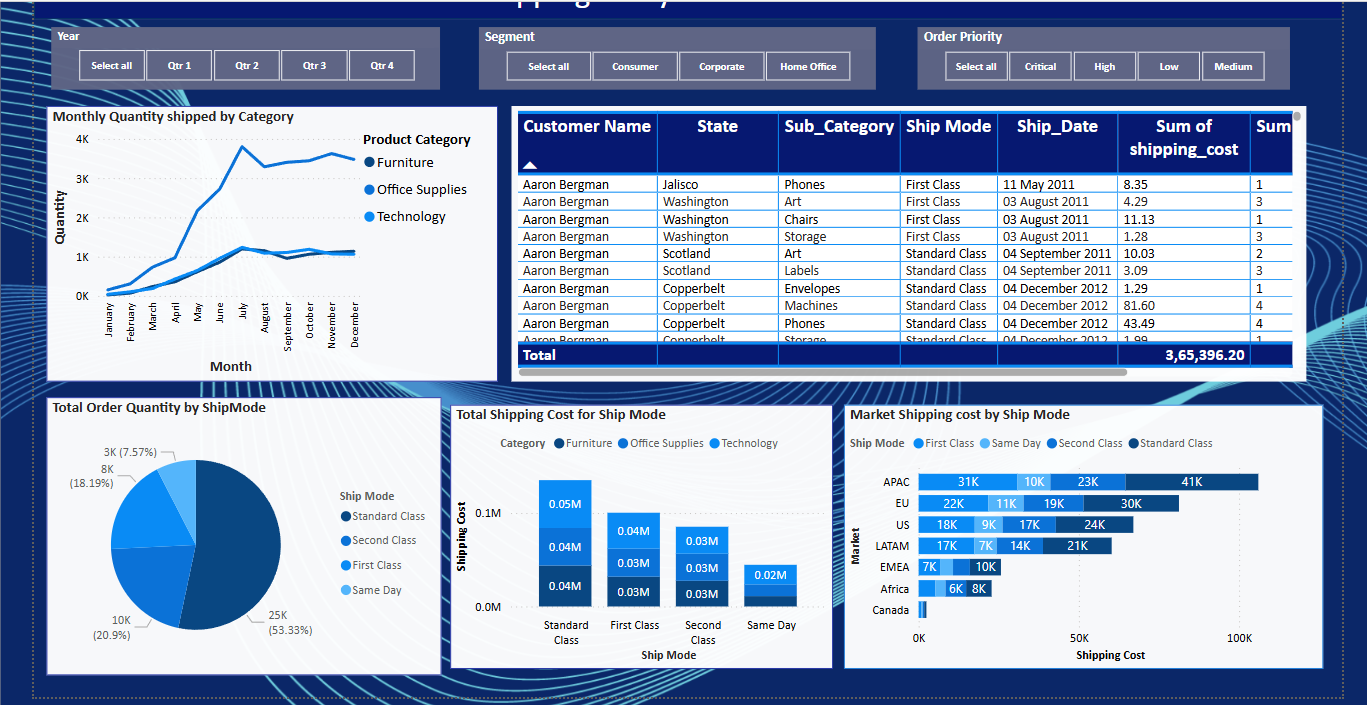

The dashboard page shown, as its layout file describes it:
{"tool":"powerbi","page":{"name":"ShippingDashboard","canvas":[1280,720],"ordinal":2},"visuals":[{"type":"shape","box":[0,0,1280.2,57],"z":0},{"type":"textbox","title":"Shipping Analysis Dashboard","box":[372.1,9.3,493,38.4],"z":1000},{"type":"slicer","title":"Year","fields":{"Values":["SuperStoreOrders2.order_date.Variation.Date Hierarchy.Quarter"]},"box":[17.4,65.1,380.2,60.5],"z":2000},{"type":"slicer","title":"Segment","fields":{"Values":["SuperStoreOrders2.segment"]},"box":[434.9,65.1,388.4,60.5],"z":3000},{"type":"barChart","title":"Market Shipping cost by Ship Mode","fields":{"Y":["SuperStoreOrders2.shipping_cost"],"Series":["SuperStoreOrders2.ship_mode"],"Category":["SuperStoreOrders2.Market"]},"box":[791.9,433.7,468.6,258.1],"z":4000},{"type":"columnChart","title":"Total Shipping Cost for Ship Mode ","fields":{"Y":["SuperStoreOrders2.shipping_cost"],"Series":["SuperStoreOrders2.Category"],"Category":["SuperStoreOrders2.ship_mode"]},"box":[407,433.7,374.4,258.1],"z":5000},{"type":"lineChart","title":"Monthly Quantity shipped by Category","fields":{"Category":["SuperStoreOrders2.Ship_Date.Variation.Date Hierarchy.Month"],"Series":["SuperStoreOrders2.Category"],"Y":["SuperStoreOrders2.quantity"]},"box":[11.6,141.9,441.9,269.8],"z":6000},{"type":"pieChart","title":"Total Order Quantity by ShipMode","fields":{"Y":["SuperStoreOrders2.quantity"],"Category":["SuperStoreOrders2.ship_mode"]},"box":[11.6,426.7,386,272.1],"z":7000},{"type":"slicer","title":"Order Priority","fields":{"Values":["SuperStoreOrders2.order_priority"]},"box":[865.1,65.1,364,60.5],"z":8000},{"type":"tableEx","fields":{"Values":["SuperStoreOrders2.customer_name","SuperStoreOrders2.State","SuperStoreOrders2.Sub_Category","SuperStoreOrders2.ship_mode","SuperStoreOrders2.ship_date","SuperStoreOrders2.shipping_cost","SuperStoreOrders2.quantity","SuperStoreOrders2.sales"]},"box":[467.4,141.9,777.9,269.8],"z":9000}]}

Visuals, with their boxes on the page's 1280x720 design canvas (x1, y1, x2, y2). These are canvas units, not pixel positions in the 1367x705 screenshot, which may show the page scaled, cropped or inside an application window:
shape: (0, 0, 1280, 57)
"Shipping Analysis Dashboard" textbox: (372, 9, 865, 48)
"Year" slicer: (17, 65, 398, 126)
"Segment" slicer: (435, 65, 823, 126)
"Market Shipping cost by Ship Mode" barChart: (792, 434, 1260, 692)
"Total Shipping Cost for Ship Mode " columnChart: (407, 434, 781, 692)
"Monthly Quantity shipped by Category" lineChart: (12, 142, 454, 412)
"Total Order Quantity by ShipMode" pieChart: (12, 427, 398, 699)
"Order Priority" slicer: (865, 65, 1229, 126)
tableEx - SuperStoreOrders2.customer_name x SuperStoreOrders2.State: (467, 142, 1245, 412)
